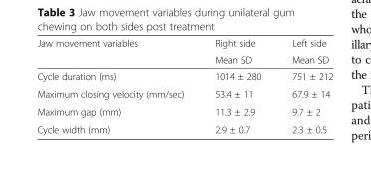table: (36, 37, 332, 134)
table column: (36, 37, 198, 134), (198, 37, 275, 134), (275, 37, 332, 134)
table column header: (36, 37, 332, 67)
table row: (36, 84, 332, 102), (36, 102, 332, 120), (36, 67, 332, 84), (36, 51, 332, 67), (36, 37, 332, 51), (36, 120, 332, 134)
table spanning cell: (36, 37, 198, 67), (198, 37, 275, 67), (275, 37, 332, 67)
